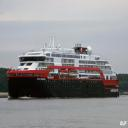cruises: (8, 30, 122, 101)
